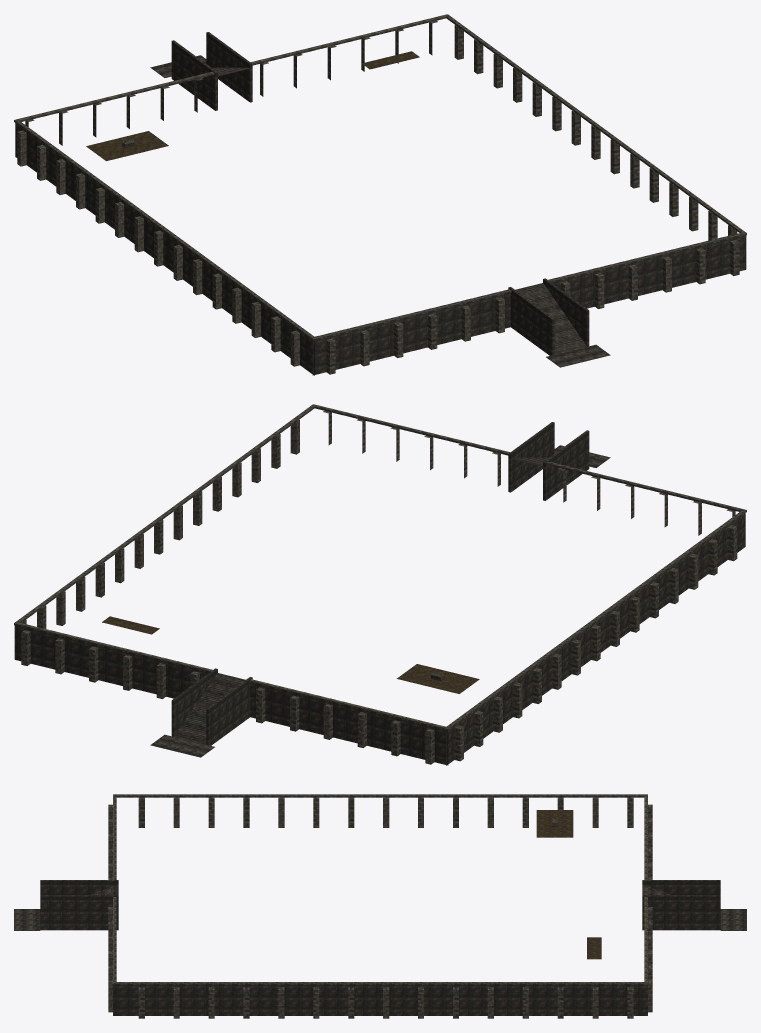
The model's file is manor_base.glb.
The picture shows the model from 3 angles, top to bottom: view 1: azimuth 30°, elevation 25°; view 2: azimuth 150°, elevation 25°; view 3: azimuth 270°, elevation 25°; orthographic projection. The views are drawn at different scales.
Parts seen in each view (by area): view 1: manor_base; view 2: manor_base; view 3: manor_base.
Part boxes in pixels (x1=…): manor_base: x1=14, y1=14, x2=746, y2=375; manor_base: x1=14, y1=404, x2=746, y2=765; manor_base: x1=14, y1=794, x2=746, y2=1018.
Size of the model in its own units: 105 by 8.92 by 168.
6 materials, 6 textured.
